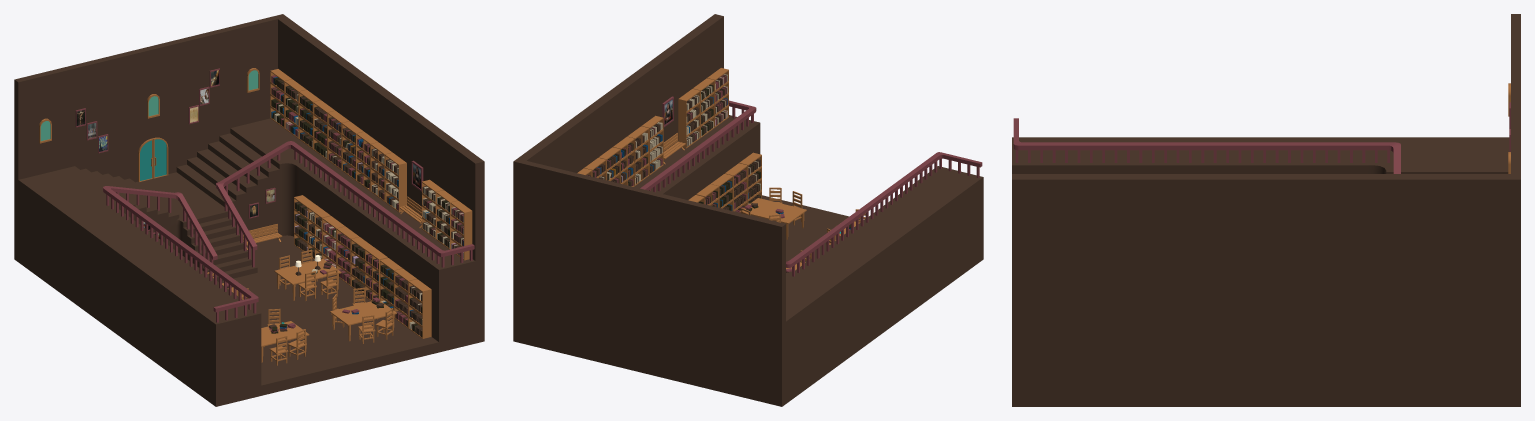
Rendered from library_low_poly.glb.
The picture shows the model from 3 angles, left to right: view 1: azimuth 30°, elevation 25°; view 2: azimuth 150°, elevation 25°; view 3: azimuth 270°, elevation 25°; orthographic projection. The views are drawn at different scales.
Visible parts, largest first — view 1: pCube1, pCube52, pCube407, pCube78, pCube104, polySurface568, polySurface828, polySurface633, pCube54, polySurface937, polySurface880, polySurface116 (+11 smaller); view 2: pCube1, pCube52, pCube78, polySurface763, polySurface880, polySurface937, polySurface633, polySurface828, polySurface698; view 3: pCube1, pCube52.
Boxes of the visible parts, left/top/right/bottom form: pCube1: left=14, top=14, right=484, bottom=406; pCube52: left=103, top=141, right=474, bottom=322; pCube407: left=138, top=137, right=168, bottom=181; pCube78: left=330, top=301, right=396, bottom=341; pCube104: left=274, top=259, right=341, bottom=300; polySurface568: left=408, top=279, right=431, bottom=338; polySurface828: left=385, top=152, right=406, bottom=212; polySurface633: left=450, top=200, right=472, bottom=260; pCube54: left=261, top=321, right=309, bottom=362; polySurface937: left=356, top=132, right=377, bottom=191; polySurface880: left=370, top=142, right=392, bottom=201; polySurface116: left=308, top=205, right=330, bottom=259; pCube1: left=513, top=14, right=983, bottom=406; pCube52: left=640, top=100, right=982, bottom=276; pCube78: left=739, top=198, right=806, bottom=239; polySurface763: left=678, top=89, right=700, bottom=148; polySurface880: left=627, top=126, right=648, bottom=185; polySurface937: left=613, top=136, right=634, bottom=186; polySurface633: left=707, top=68, right=728, bottom=127; polySurface828: left=642, top=115, right=663, bottom=175; polySurface698: left=692, top=78, right=714, bottom=137; pCube1: left=1012, top=14, right=1520, bottom=406; pCube52: left=1013, top=118, right=1400, bottom=173.
Bounding box in the file's own units: 0.2726 × 0.1746 × 0.3542.
24 materials, 13 textured.
